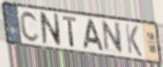A: (82, 18, 106, 53)
C: (19, 9, 41, 43)
K: (123, 23, 143, 58)
N: (39, 11, 62, 49), (101, 20, 124, 55)
T: (61, 15, 78, 49)
